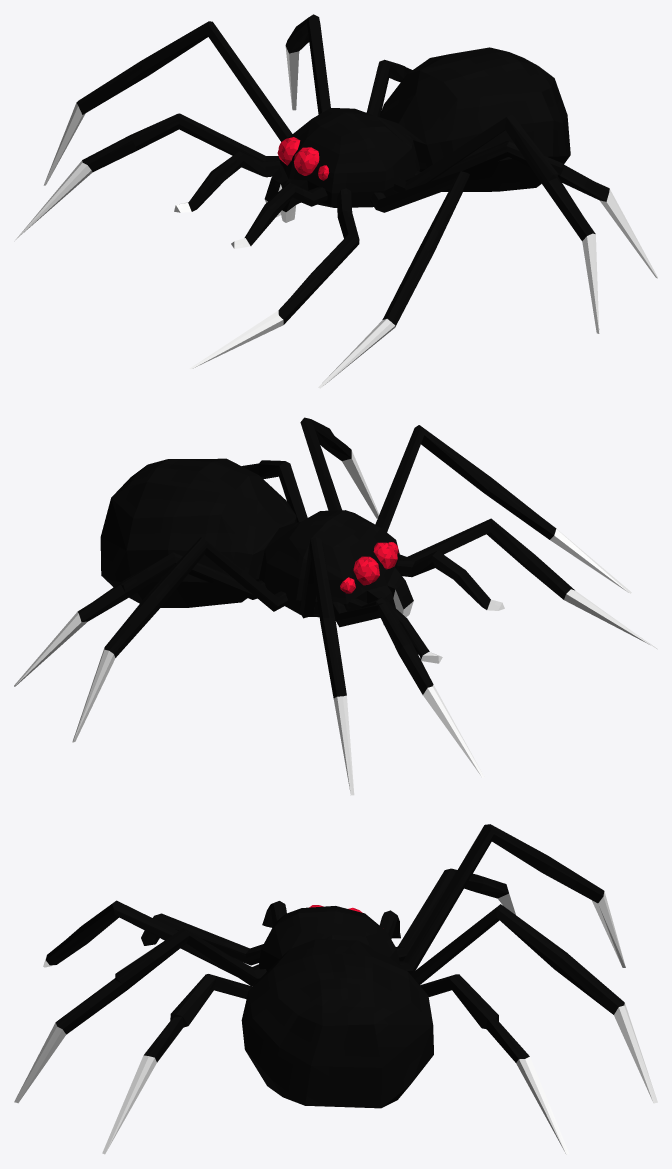
File: spiderIdle4.obj
3 renders of one model, top to bottom at view 1: azimuth 30°, elevation 25°; view 2: azimuth 150°, elevation 25°; view 3: azimuth 270°, elevation 25°, orthographic. The views are drawn at different scales.
Parts seen in each view (by area): view 1: Cube.003_Cube.004; view 2: Cube.003_Cube.004; view 3: Cube.003_Cube.004.
Part boxes in pixels (x1,y1,x2,y2): Cube.003_Cube.004: (14,14,657,388); Cube.003_Cube.004: (14,417,657,795); Cube.003_Cube.004: (14,824,657,1154).
Size of the model in its own units: 29.48 by 11.53 by 34.5.
